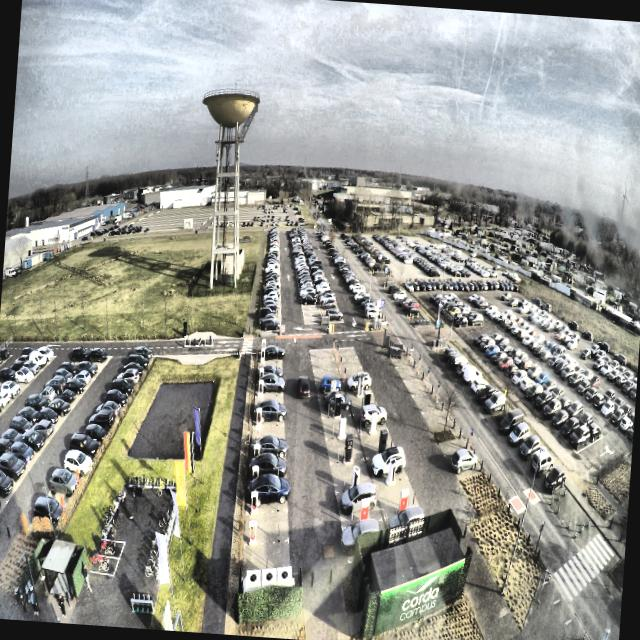cabinet: (246, 565, 292, 585)
car: (249, 472, 290, 509), (250, 453, 287, 479), (255, 398, 288, 422), (253, 435, 289, 456), (257, 371, 286, 393), (261, 344, 287, 361), (256, 363, 283, 378)
parking: (244, 508, 288, 543), (243, 540, 289, 572), (246, 482, 286, 512), (248, 461, 286, 486), (250, 442, 286, 465), (251, 424, 285, 444), (252, 408, 284, 426), (254, 394, 283, 410), (255, 382, 283, 396), (256, 372, 283, 383), (258, 351, 282, 362), (257, 362, 282, 372)
supercharger: (249, 521, 256, 543), (251, 491, 258, 513), (252, 466, 259, 485), (256, 408, 262, 425), (254, 444, 260, 459), (255, 425, 261, 440), (257, 393, 262, 408), (258, 380, 263, 393), (259, 368, 264, 379), (261, 348, 265, 359), (260, 358, 264, 368), (262, 339, 266, 348)
